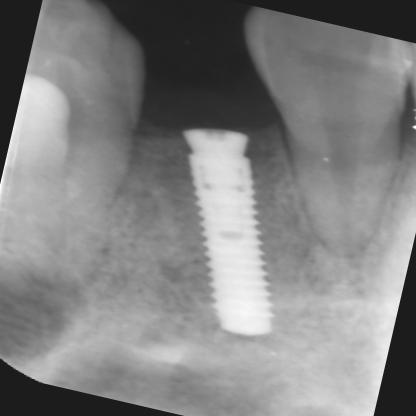ITI: (184, 154, 279, 338)
